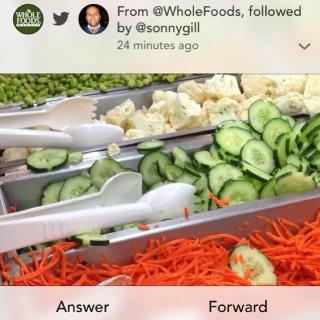Carrot: (120, 238, 248, 286), (248, 210, 320, 287), (2, 242, 120, 288)
